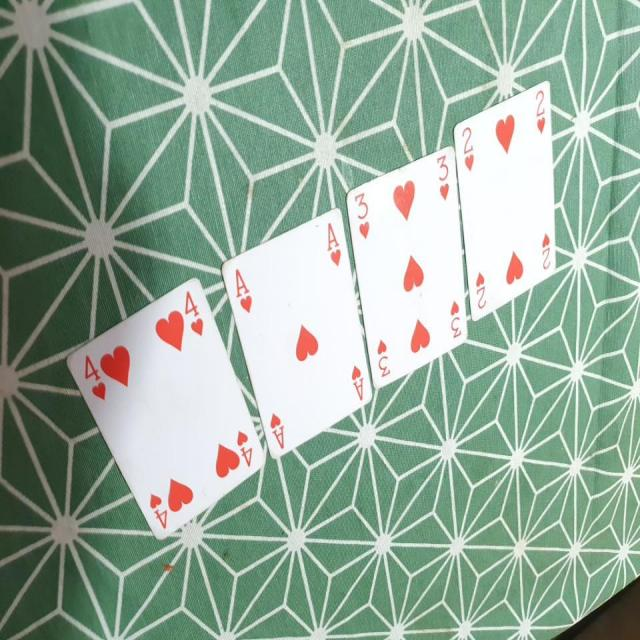2 Hearts: (454, 74, 568, 325)
3 Hearts: (338, 146, 471, 392)
4 Hearts: (63, 270, 265, 540)
A Hearts: (221, 202, 372, 461)
